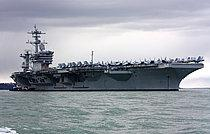MIL_Ship: (8, 24, 205, 92)
